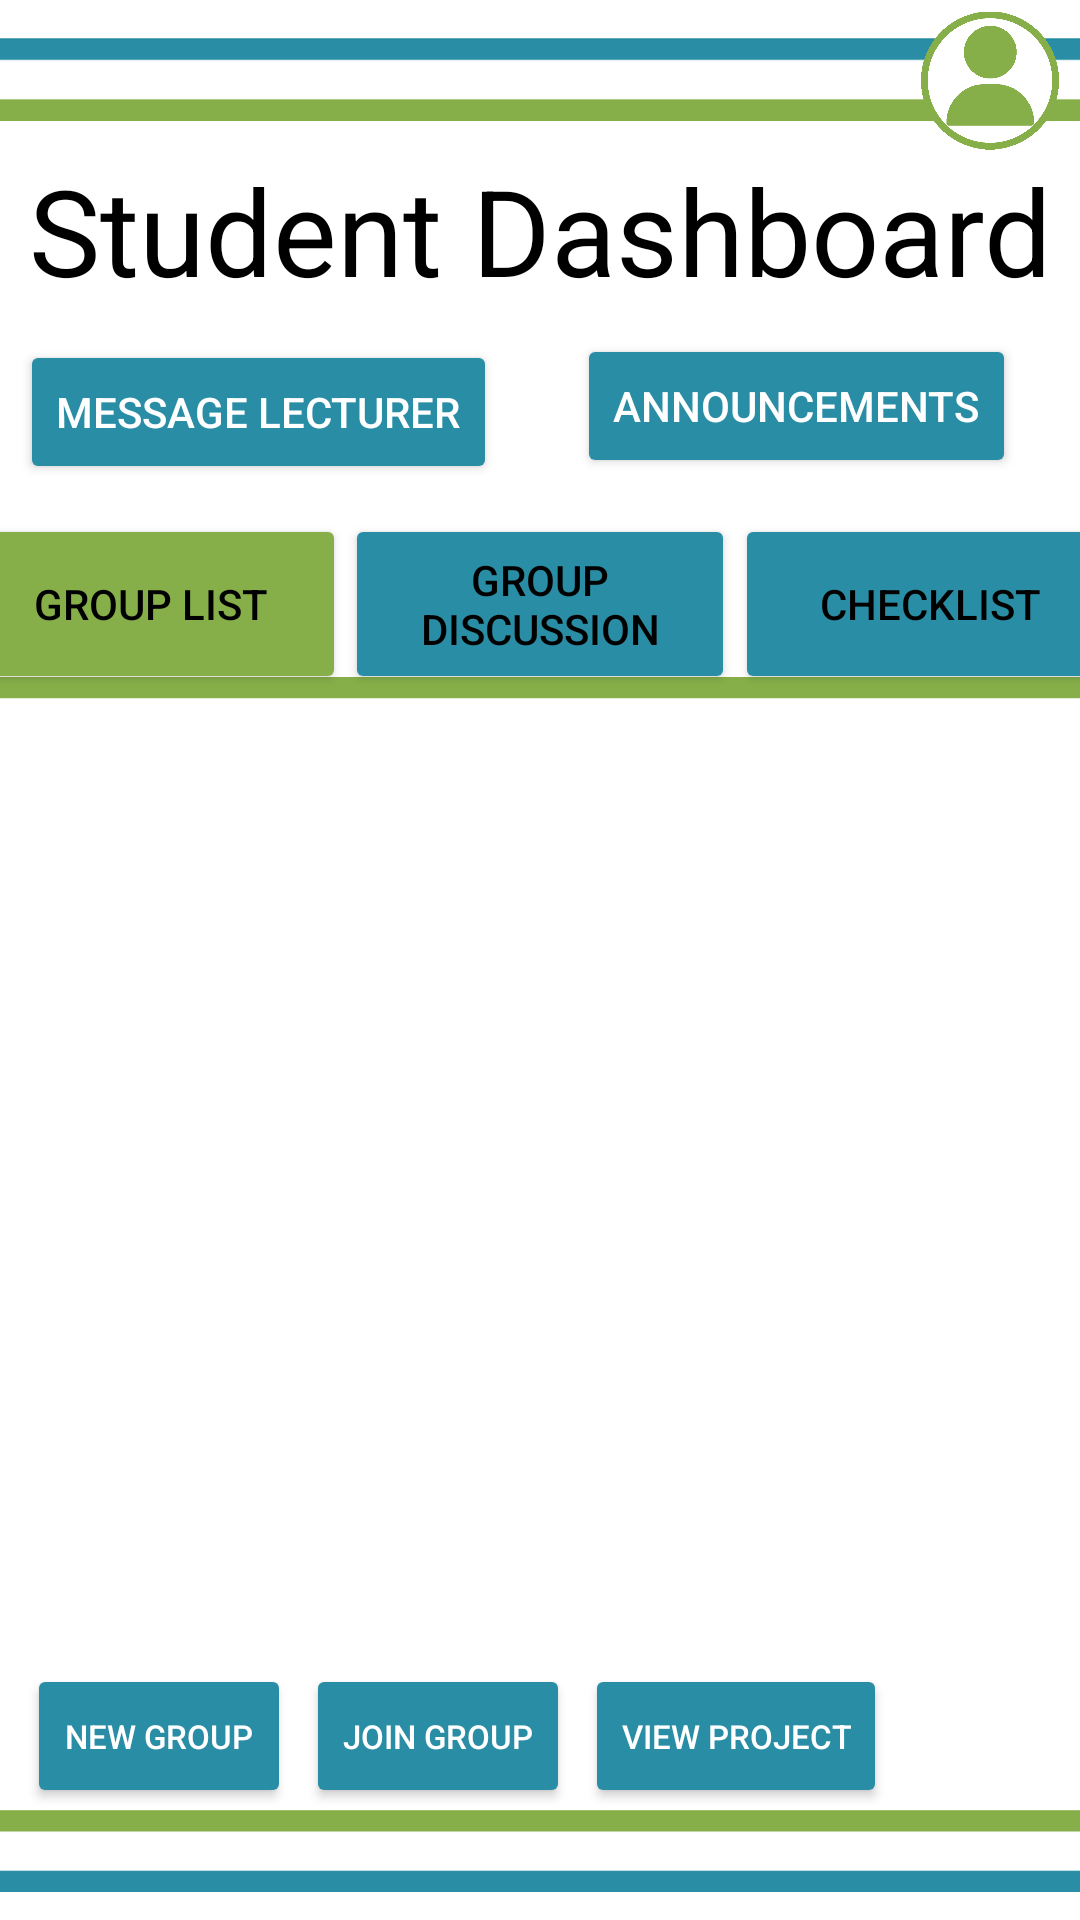

Locate icon controls on the screen. Image size 1080px×1920px, boxes as (x1, y1, x2, y2).
user: (921, 12, 1059, 150)
